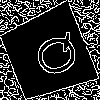Q: (23, 29, 85, 84)
